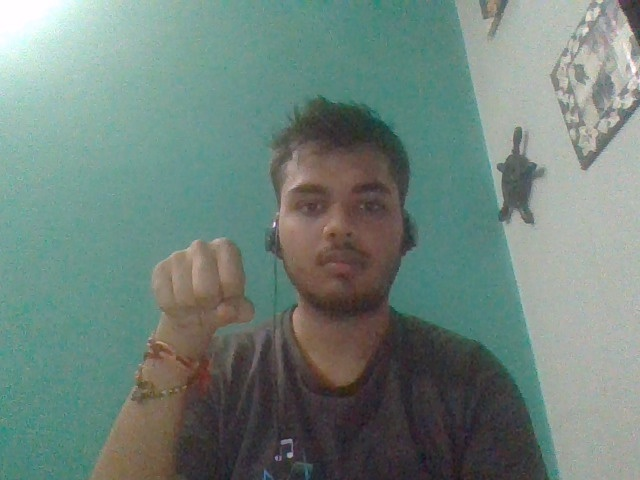yes: (147, 235, 258, 327)
